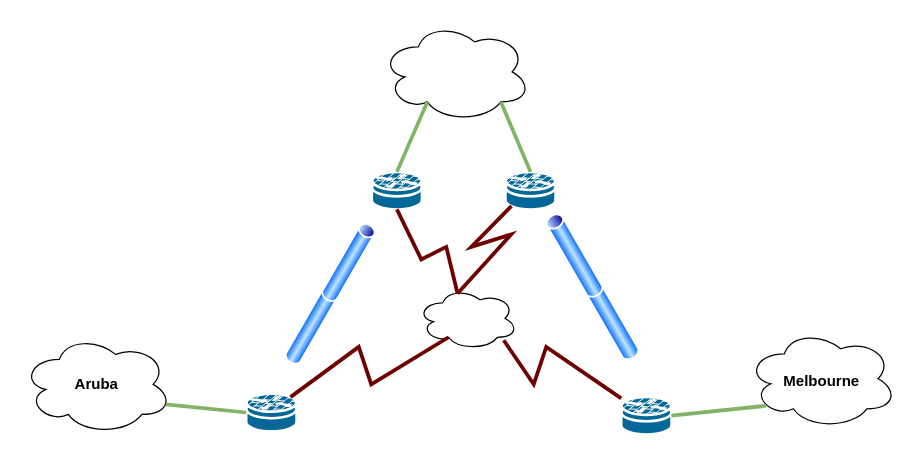
The diagram is 919 pixels wide and 458 high, and some of its shapes have lost their labels. The shapes that lost their labels are listed below. From the top down, each one's centre as x and y in pixels, then its label:
pixel 455 71: Delft
pixel 467 318: ISP
